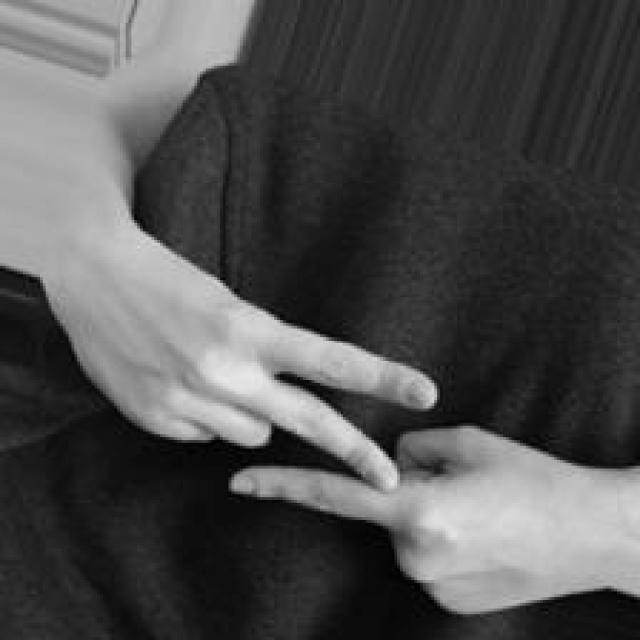Z: (91, 241, 640, 617)
